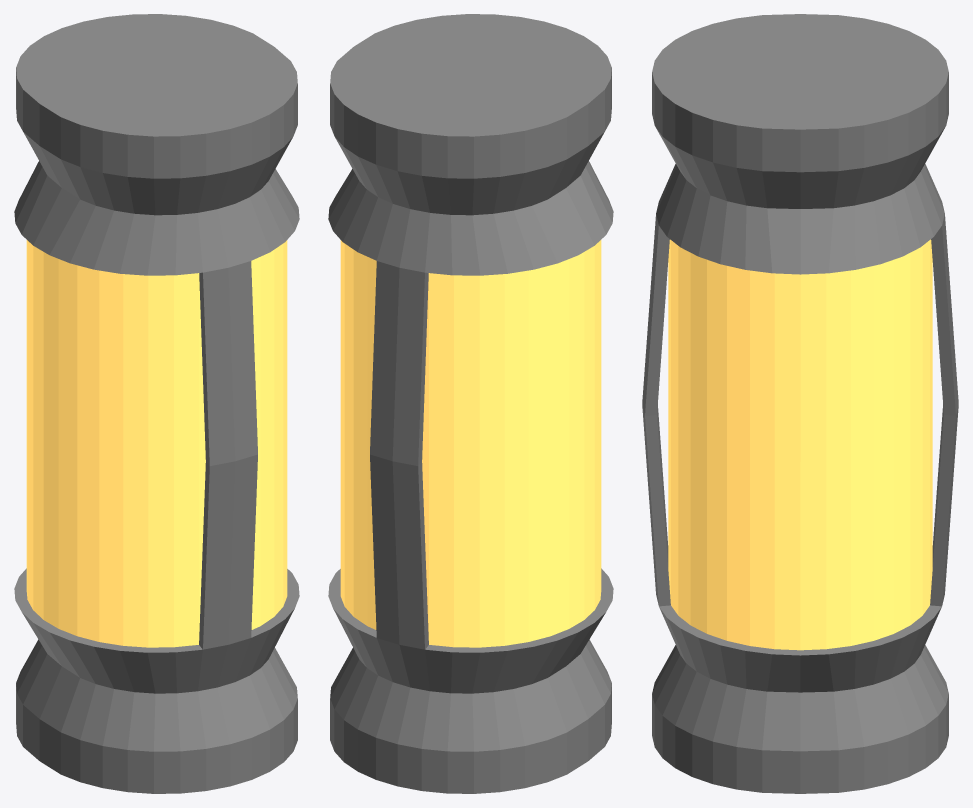
Rendered from Battery.fbx.
3 renders of one model, left to right at view 1: azimuth 30°, elevation 25°; view 2: azimuth 150°, elevation 25°; view 3: azimuth 270°, elevation 25°, orthographic.
Visible parts, largest first — view 1: Cylinder; view 2: Cylinder; view 3: Cylinder.
Part boxes in pixels (x1,y1,x2,y2): Cylinder: (14, 14, 299, 793); Cylinder: (328, 14, 613, 793); Cylinder: (642, 14, 958, 793).
Bounding box in the file's own units: 162 × 411 × 178.
